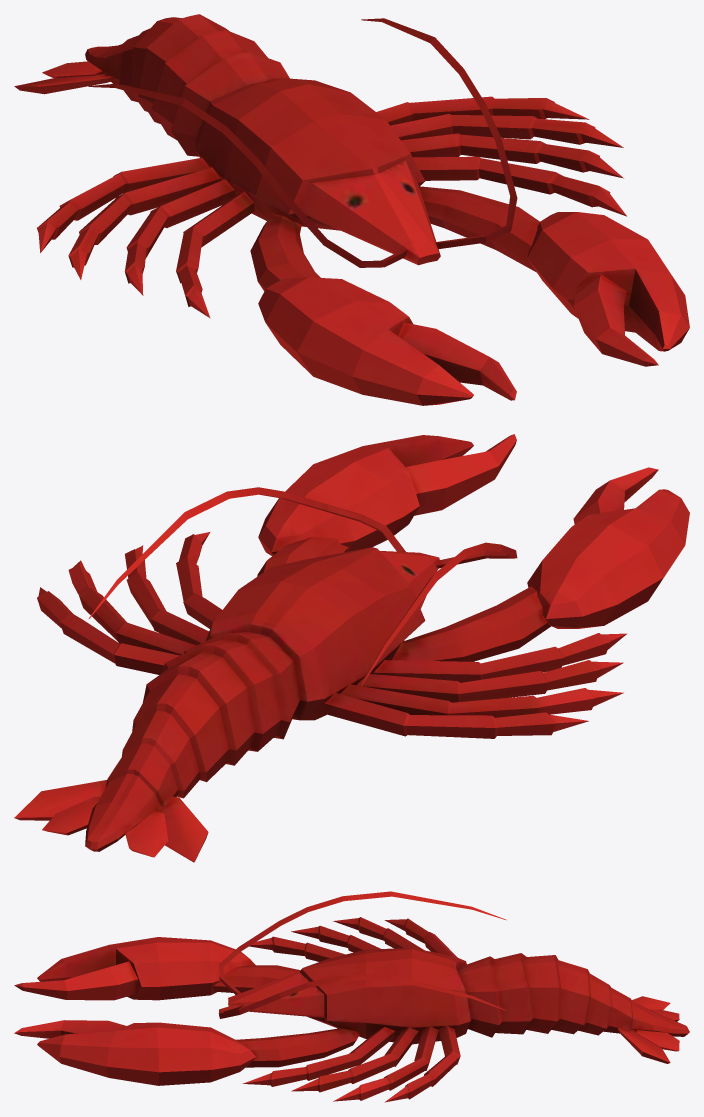
Rendered from animals-lobster-141.glb.
The picture shows the model from 3 angles, top to bottom: view 1: azimuth 30°, elevation 25°; view 2: azimuth 150°, elevation 25°; view 3: azimuth 270°, elevation 25°; orthographic projection. The views are drawn at different scales.
Parts seen in each view (by area): view 1: Lobster_mesh; view 2: Lobster_mesh; view 3: Lobster_mesh.
Part boxes in pixels (box(x1,y1,x2,y2)): Lobster_mesh: box(14, 14, 689, 405); Lobster_mesh: box(14, 434, 689, 862); Lobster_mesh: box(14, 891, 689, 1102).
Bounding box in the file's own units: 4.19 × 1.12 × 6.55.
1 material, 1 textured.
